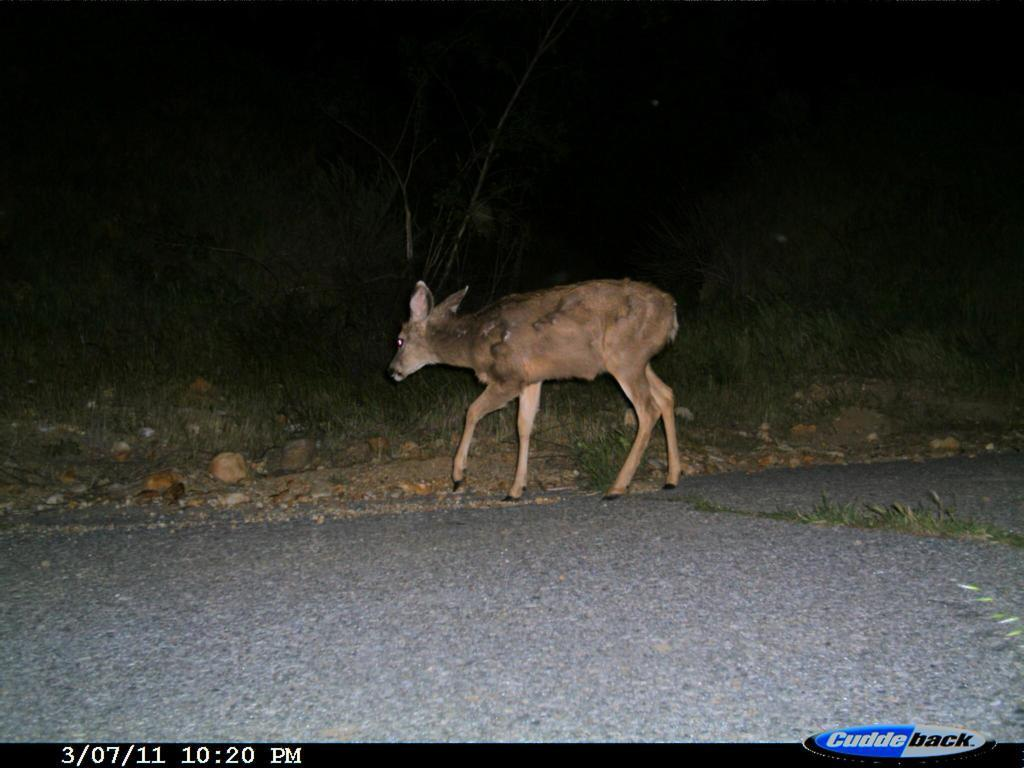deer: (379, 269, 707, 506)
